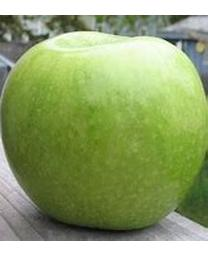apple: (0, 31, 207, 229)
